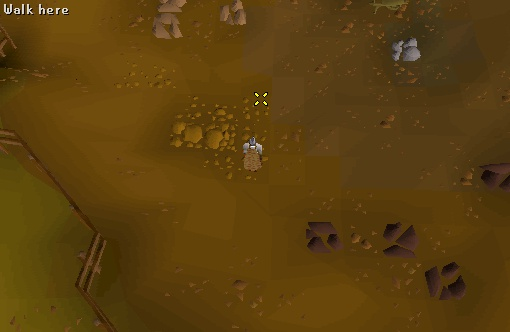copper: (145, 9, 192, 44)
iron: (299, 215, 344, 258), (376, 217, 421, 260), (423, 258, 468, 301)
